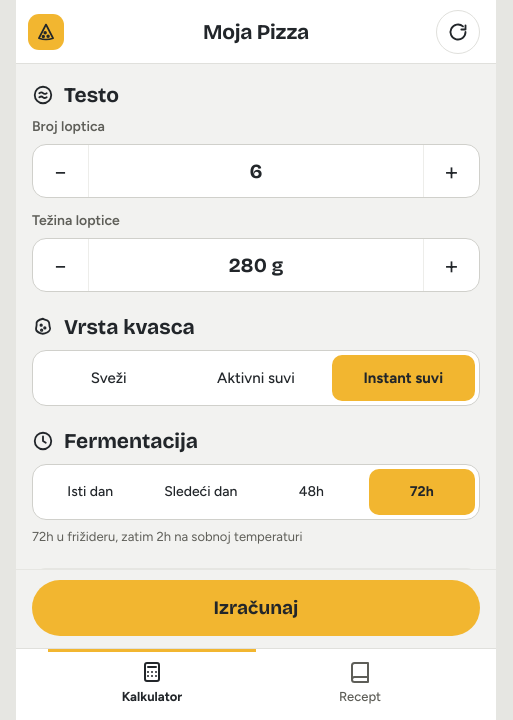
Calculator → Quantities › scales the Batch with the − / + steppers
Click the button named "Manje loptica". click: {"x": 61, "y": 171}
box: [33,145,89,197]
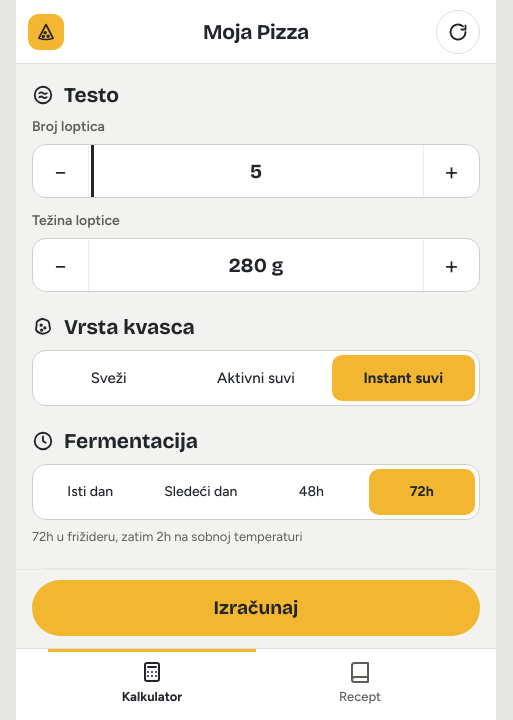
Click the button named "Manje loptica". click: {"x": 61, "y": 171}
box: [33,145,89,197]
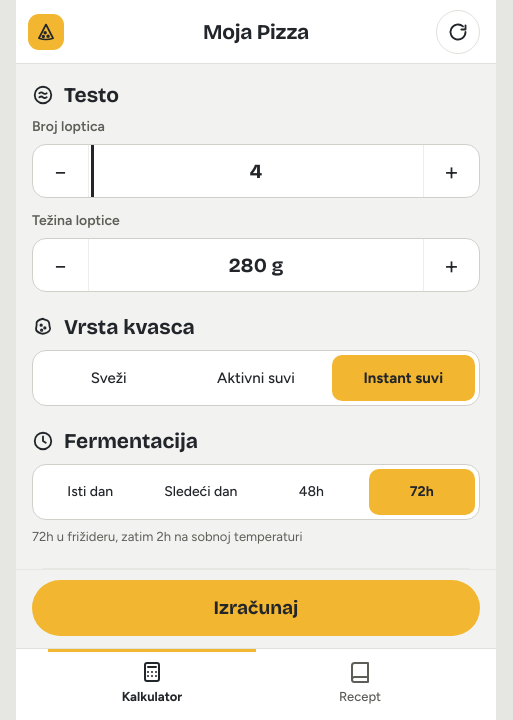
Click the button named "Povećaj za 10 g". click: {"x": 451, "y": 265}
box: [423,239,479,291]
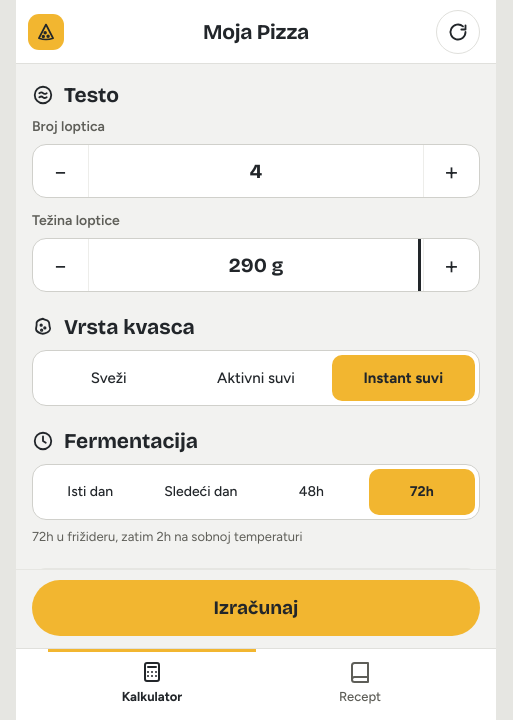
Result: the field labelled "Broj loptica" holds "4" at [89,145,423,197]
Result: the field labelled "Težina loptice" holds "290 g" at [89,239,423,291]
Click the button "Izračunaj". click: {"x": 256, "y": 608}
box: [32,580,480,636]
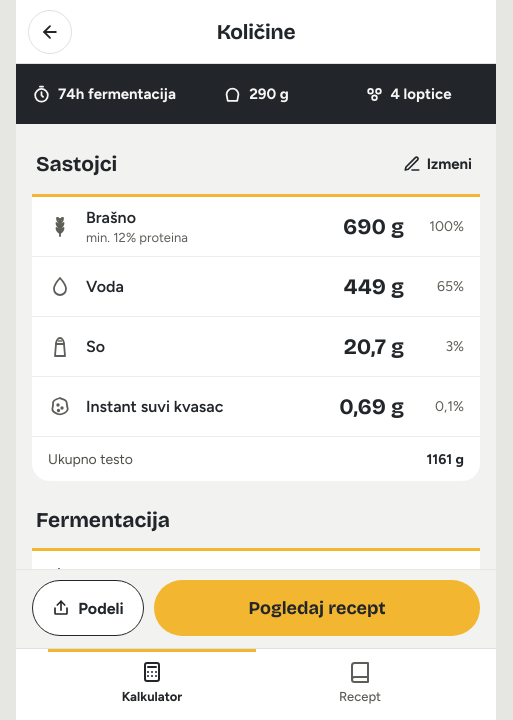
Result: the list item "Brašno" shows "690 g" at [343,214,404,240]
Result: the list item "Voda" shows "449 g" at [344,274,404,300]
Result: the list item "So" shows "20,7 g" at [344,334,404,360]
